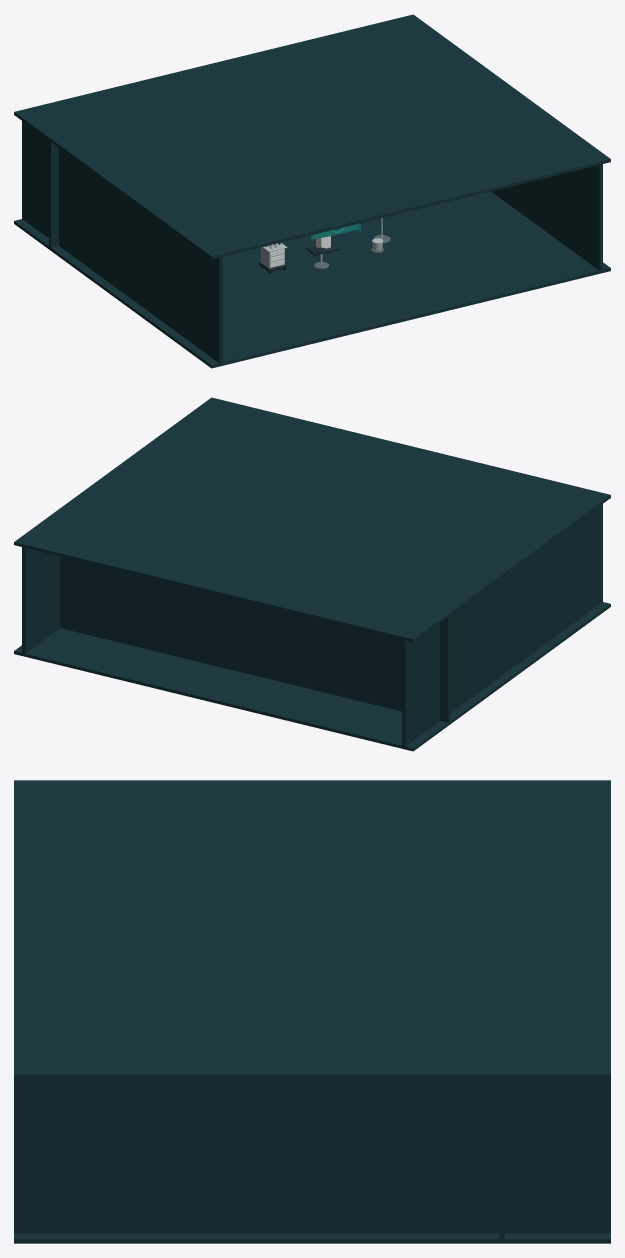
3 views of the same model, one above another, from view 1: azimuth 30°, elevation 25°; view 2: azimuth 150°, elevation 25°; view 3: azimuth 270°, elevation 25° (orthographic). The views are drawn at different scales.
Visible parts, largest first — view 1: ceiling, floor, wall_left, wall_right, wall_back; view 2: ceiling, wall_back, wall_left, floor, wall_right; view 3: ceiling, wall_right, floor, wall_back.
Boxes of the visible parts, <box> form: ceiling: <box>14,14,610,259</box>; floor: <box>14,191,610,368</box>; wall_left: <box>22,121,222,363</box>; wall_right: <box>491,163,602,270</box>; wall_back: <box>49,139,58,247</box>; ceiling: <box>14,397,610,642</box>; wall_back: <box>60,556,450,722</box>; wall_left: <box>402,504,602,746</box>; floor: <box>14,602,610,751</box>; wall_right: <box>22,546,60,653</box>; ceiling: <box>14,780,610,1078</box>; wall_right: <box>14,1079,610,1233</box>; floor: <box>14,1233,610,1243</box>; wall_back: <box>499,1077,504,1239</box>.
Size of the model in its own units: 14 by 3.75 by 12.
